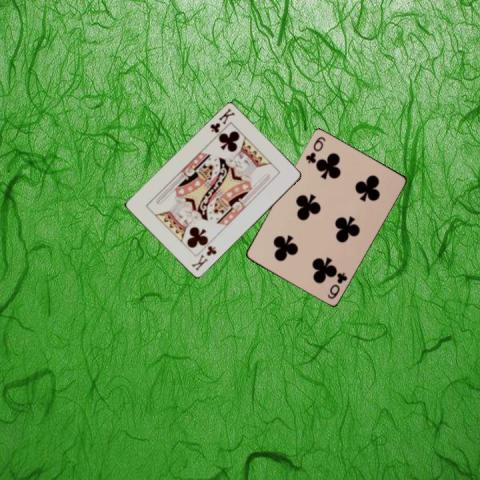6c: (302, 133, 326, 165), (324, 269, 348, 300)
Kc: (189, 243, 218, 272), (207, 106, 236, 135)
